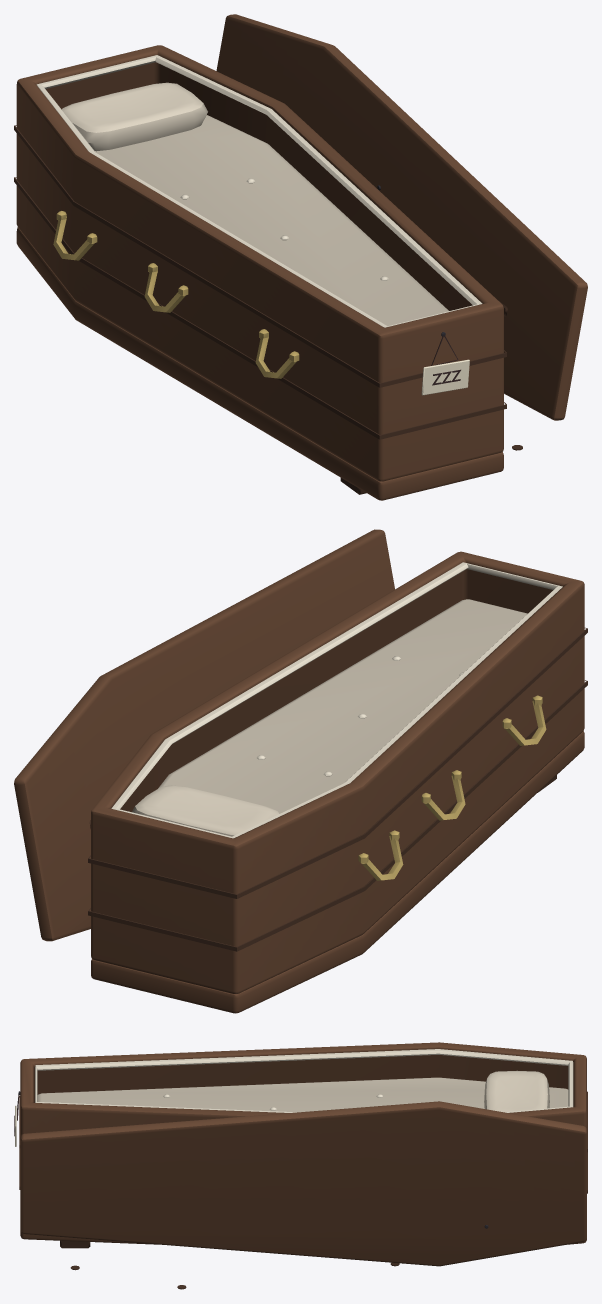
File: coffin_pine.glb
3 renders of one model, top to bottom at view 1: azimuth 30°, elevation 25°; view 2: azimuth 150°, elevation 25°; view 3: azimuth 270°, elevation 25°, orthographic. The views are drawn at different scales.
Visible parts, largest first — view 1: coffin_pine; view 2: coffin_pine; view 3: coffin_pine.
Boxes of the visible parts, x1,y1,x2,y2 form: coffin_pine: [14, 14, 587, 500]; coffin_pine: [14, 529, 587, 1013]; coffin_pine: [14, 1042, 587, 1289].
Size of the model in its own units: 0.8798 by 0.6557 by 1.88.
